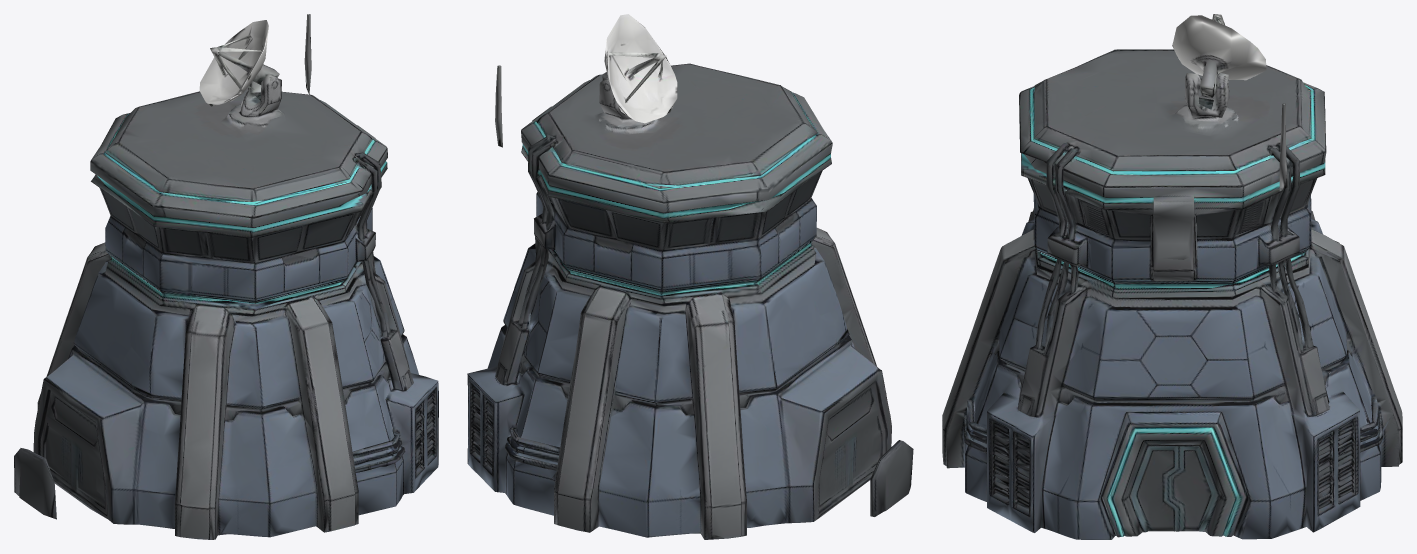
Rendered from Headquarters.glb.
3 renders of one model, left to right at view 1: azimuth 30°, elevation 25°; view 2: azimuth 150°, elevation 25°; view 3: azimuth 270°, elevation 25°, orthographic. The views are drawn at different scales.
Visible parts, largest first — view 1: tripo_node_fb1b3b48-8156-46d6-8fba-7a0b0430ef23; view 2: tripo_node_fb1b3b48-8156-46d6-8fba-7a0b0430ef23; view 3: tripo_node_fb1b3b48-8156-46d6-8fba-7a0b0430ef23.
Boxes of the visible parts, left/top/right/bottom form: tripo_node_fb1b3b48-8156-46d6-8fba-7a0b0430ef23: left=14, top=14, right=438, bottom=539; tripo_node_fb1b3b48-8156-46d6-8fba-7a0b0430ef23: left=467, top=14, right=913, bottom=539; tripo_node_fb1b3b48-8156-46d6-8fba-7a0b0430ef23: left=942, top=14, right=1402, bottom=539.
Bounding box in the file's own units: 0.9077 × 1 × 0.8969.
Materials: 1 (1 with a texture image).
